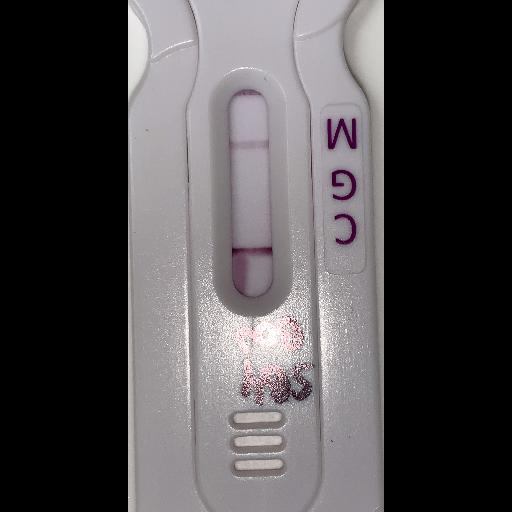Pos: (128, 0, 378, 511)
